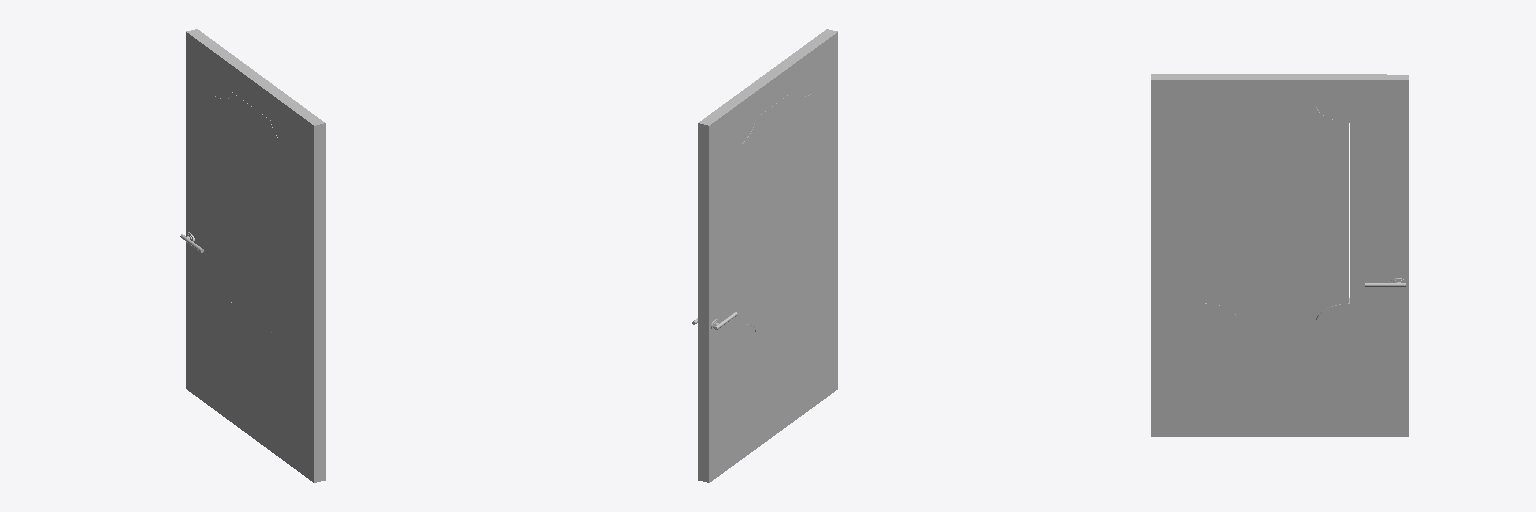
Rendered from PuertaDerechaP.obj.
3 views of the same model, side by side, from view 1: azimuth 30°, elevation 25°; view 2: azimuth 150°, elevation 25°; view 3: azimuth 270°, elevation 25° (orthographic).
Parts seen in each view (by area): view 1: Puerta1_Door.004, Puerta1_Door_glass.002; view 2: Puerta1_Door.004, Puerta1_Door_glass.002; view 3: Puerta1_Door.004, Puerta1_Door_glass.002.
Boxes of the visible parts, x1=… form: Puerta1_Door.004: x1=186, y1=29, x2=325, y2=482; Puerta1_Door_glass.002: x1=215, y1=92, x2=288, y2=333; Puerta1_Door.004: x1=698, y1=29, x2=837, y2=482; Puerta1_Door_glass.002: x1=739, y1=90, x2=812, y2=331; Puerta1_Door.004: x1=1151, y1=74, x2=1408, y2=436; Puerta1_Door_glass.002: x1=1203, y1=107, x2=1348, y2=319.
Size of the model in its own units: 2.44 by 32.94 by 21.49.